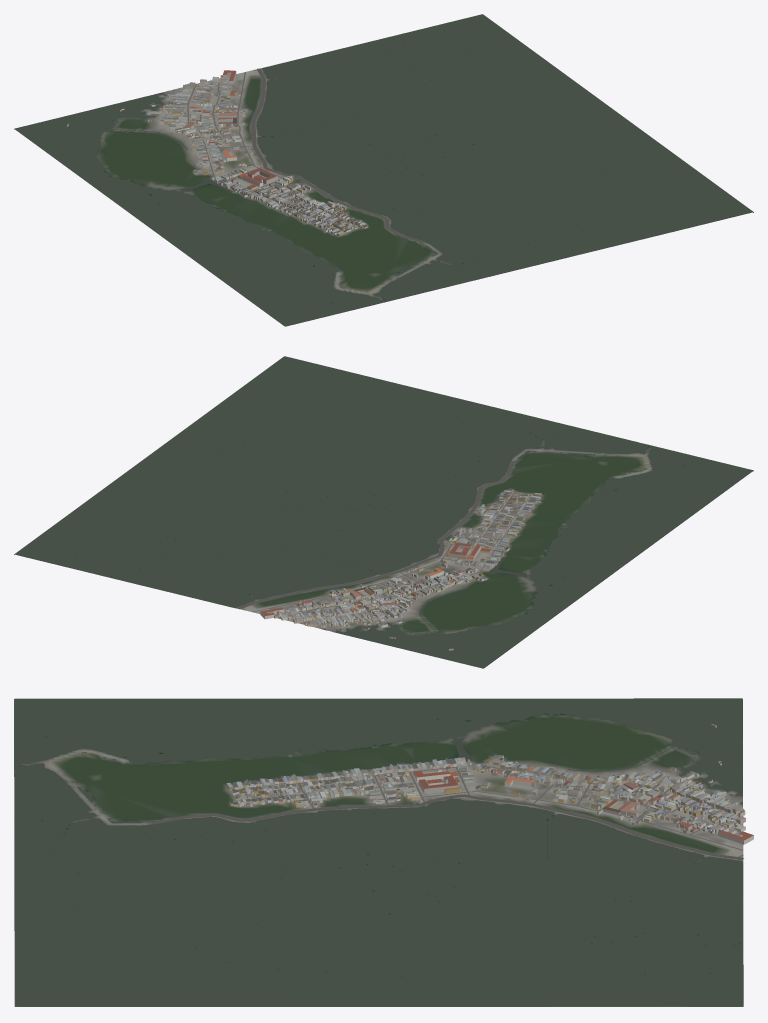
3 views of the same model, one above another, from view 1: azimuth 30°, elevation 25°; view 2: azimuth 150°, elevation 25°; view 3: azimuth 270°, elevation 25° (orthographic). The views are drawn at different scales.
Parts seen in each view (by area): view 1: water, ground, buildings, roads; view 2: water, ground, buildings, roads; view 3: water, ground, buildings, roads.
Part boxes in pixels (<box>): water: <box>15,14,752,326</box>; ground: <box>14,14,753,326</box>; buildings: <box>66,70,367,236</box>; roads: <box>170,68,424,243</box>; water: <box>15,356,752,668</box>; ground: <box>14,358,753,668</box>; buildings: <box>260,488,541,650</box>; roads: <box>237,461,530,623</box>; water: <box>14,698,742,1006</box>; ground: <box>14,698,743,1006</box>; buildings: <box>226,724,753,844</box>; roads: <box>151,765,743,860</box>.
Bounding box in the file's own units: 1403 × 14.2 × 1422.
